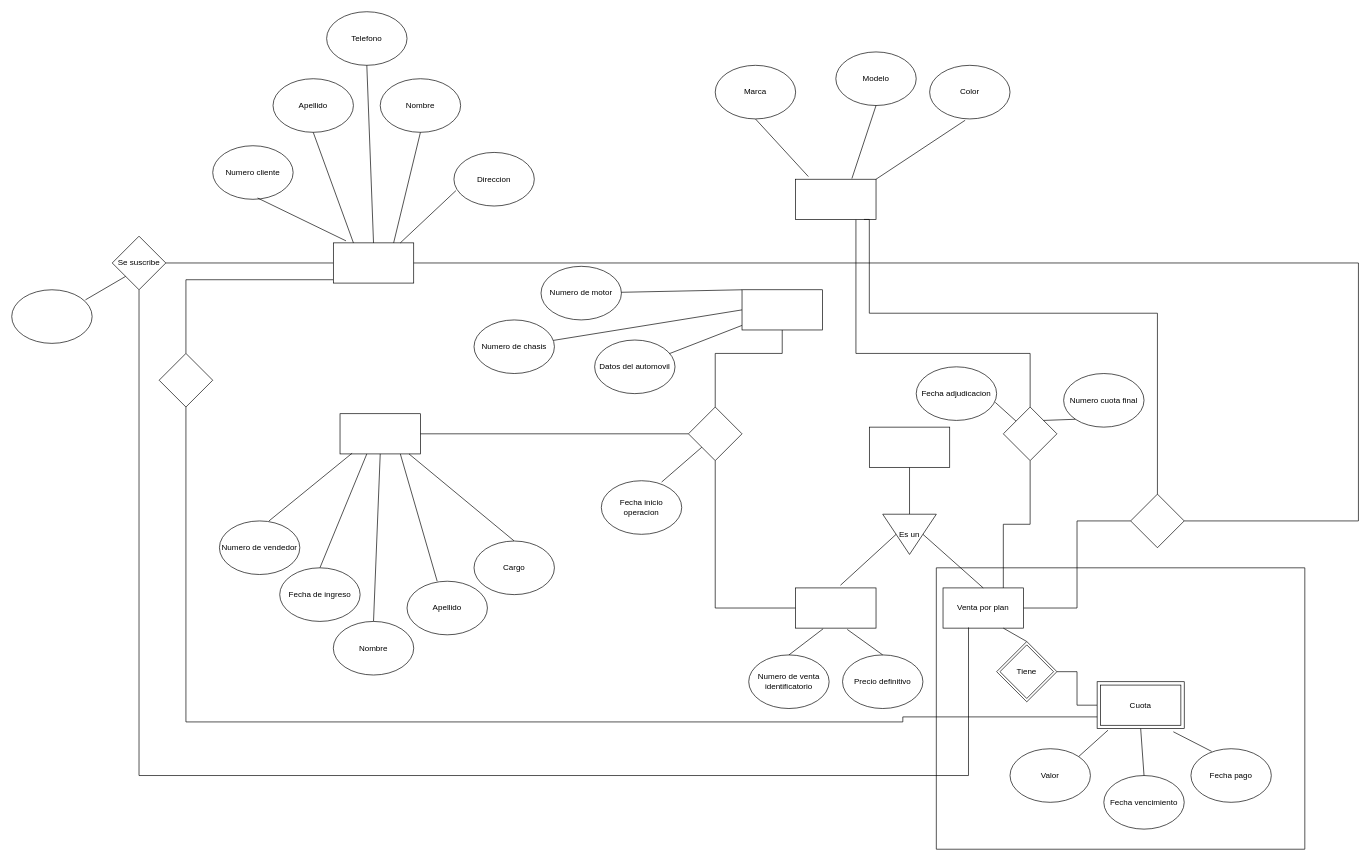
This 1371x861 diagram has some shape labels left out. Here are the shapes that lost their labels. From the top down, the centre of each, then its label:
point (835, 199): Auto
point (373, 262): Cliente
point (51, 316): Numero de suscripcion
point (781, 309): Unidad
point (185, 380): Paga
point (379, 433): Vendedor
point (715, 433): Tiene informacion
point (909, 446): Venta
point (1030, 433): Adjudica unidad
point (1157, 520): Guarda datos
point (835, 607): Venta al contado
